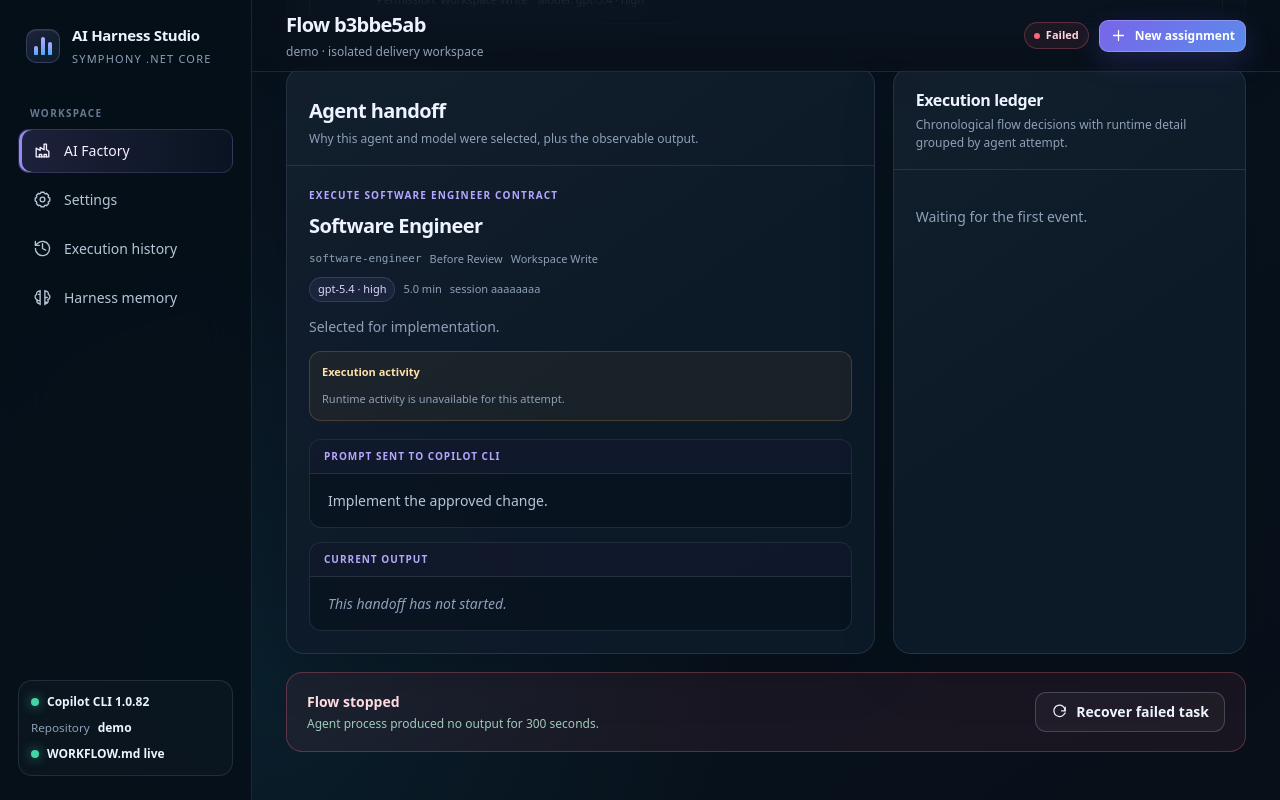
it: FlowPage manual restart › recovers a failed task and selects Correct invalid response from Software Engineer
This screenshot has width=1280, height=800.
(page scrolled)
Click the button "Recover failed task" at (1130, 712), box x1=1035 y1=692 x2=1225 y2=732
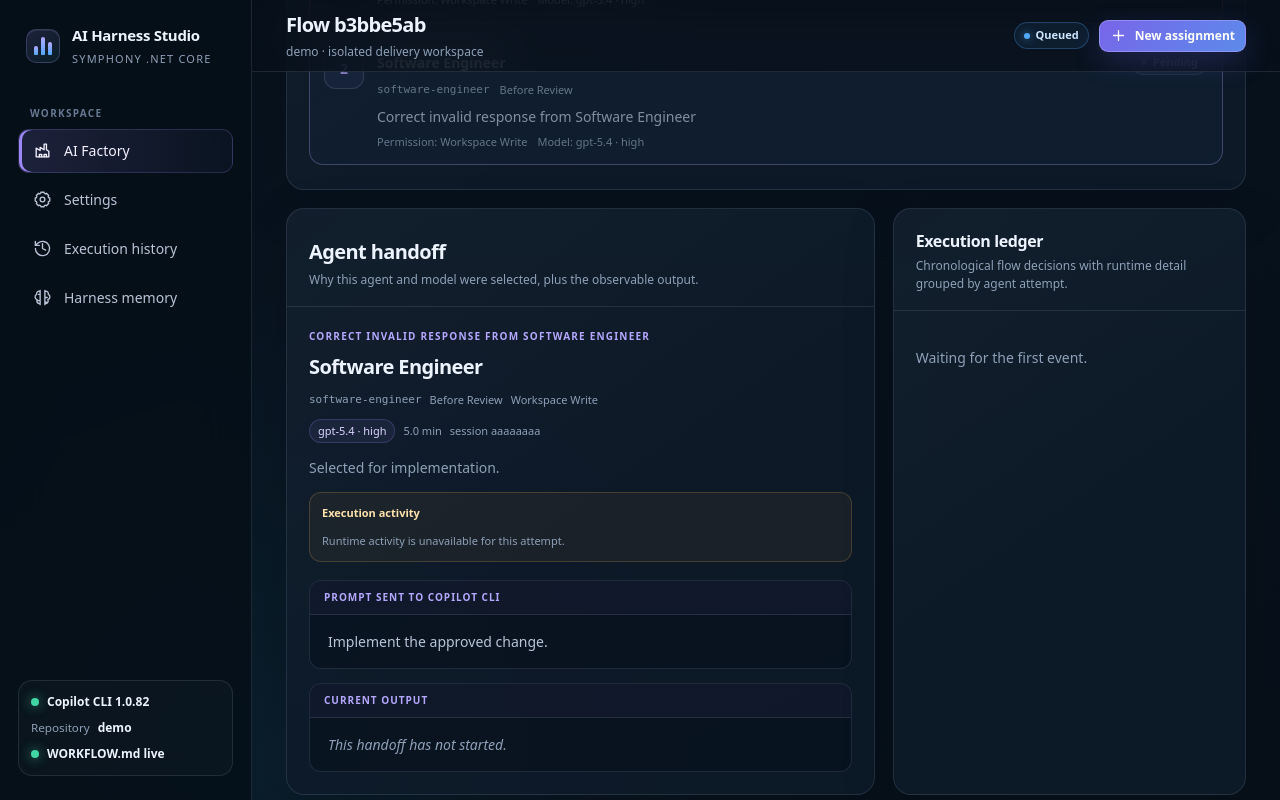
Expected: the text "Correct invalid response from Software Engineer" below "completed" is shown, x1=377 y1=107 x2=696 y2=126
Expected: the text "Flow stopped" is gone
